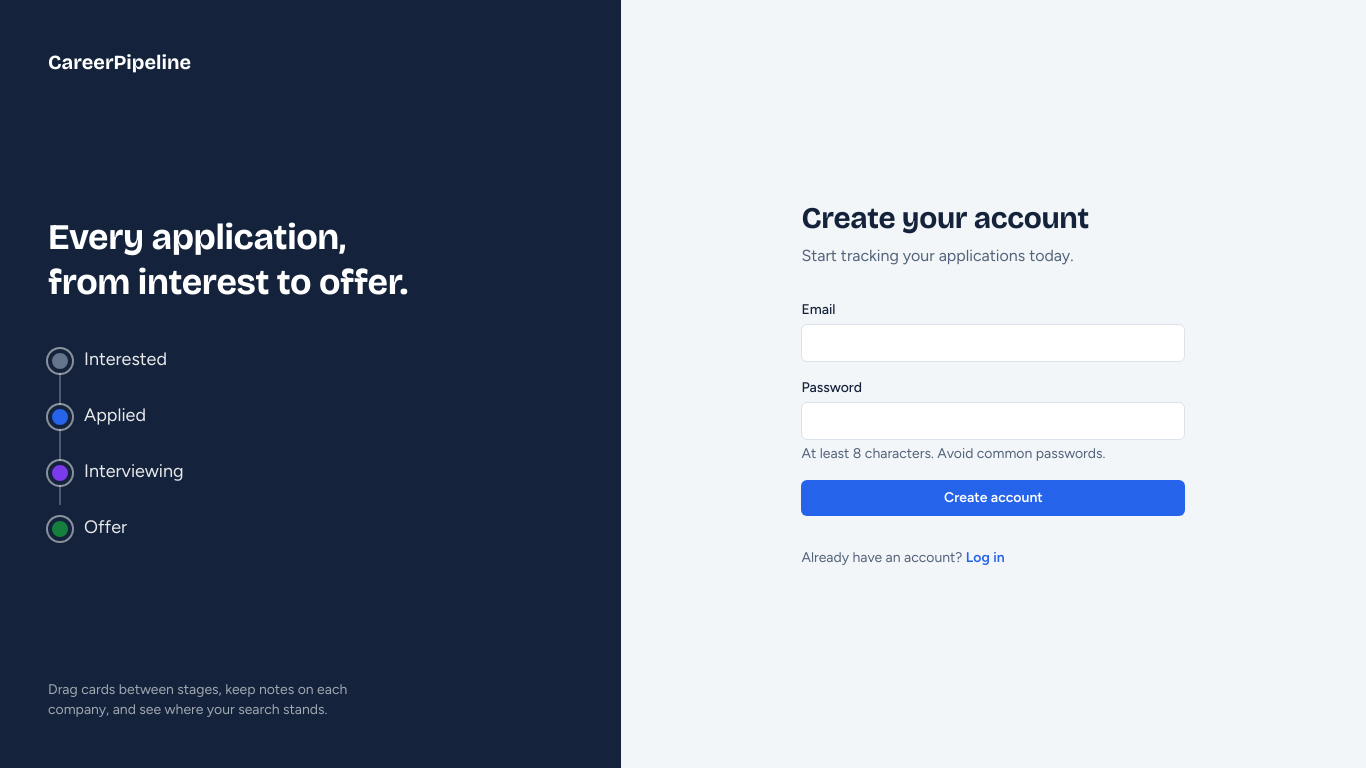
Test: registration shows the password rules returned by the API
This screenshot has width=1366, height=768.
In the field labelled "Email": (993, 343) [801,324,1185,362], type "new@b.test"
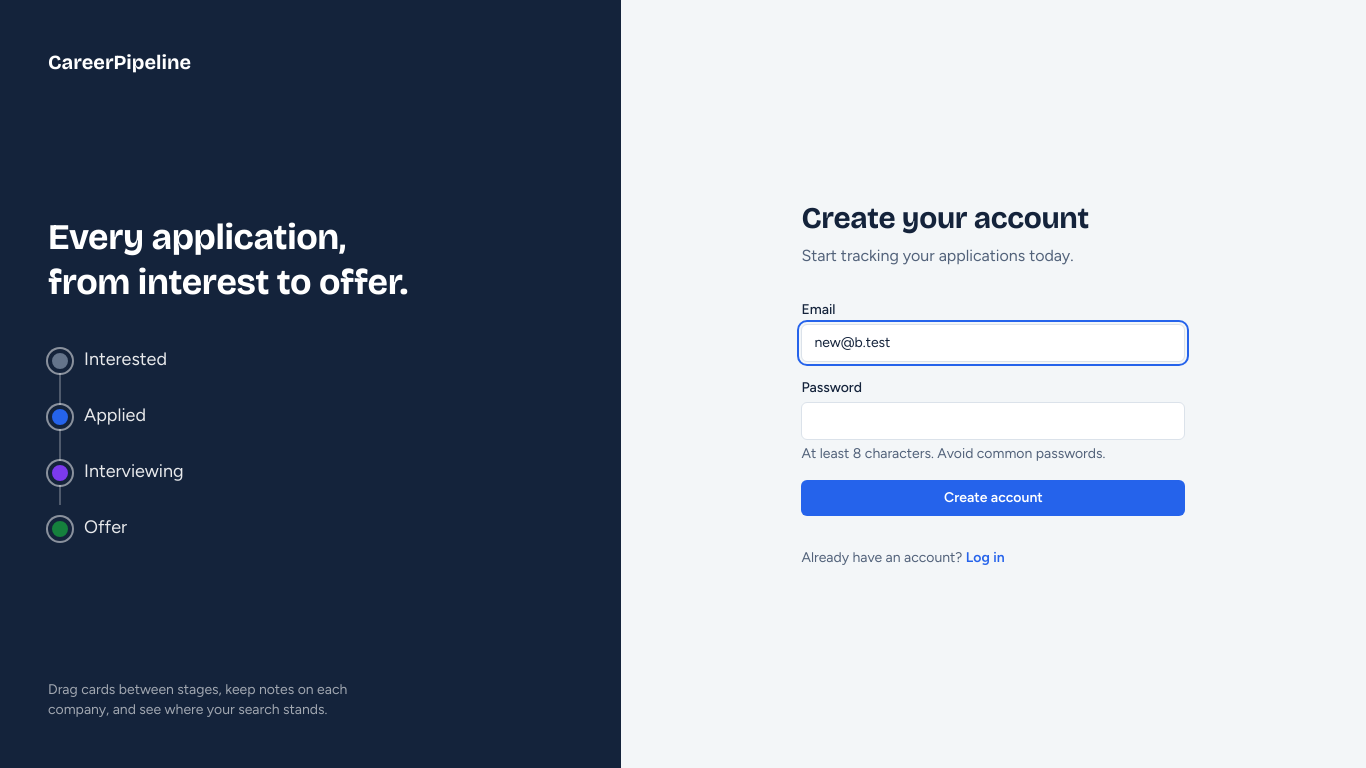
In the password field labelled "Password": (993, 421) [801,402,1185,440], type "short"
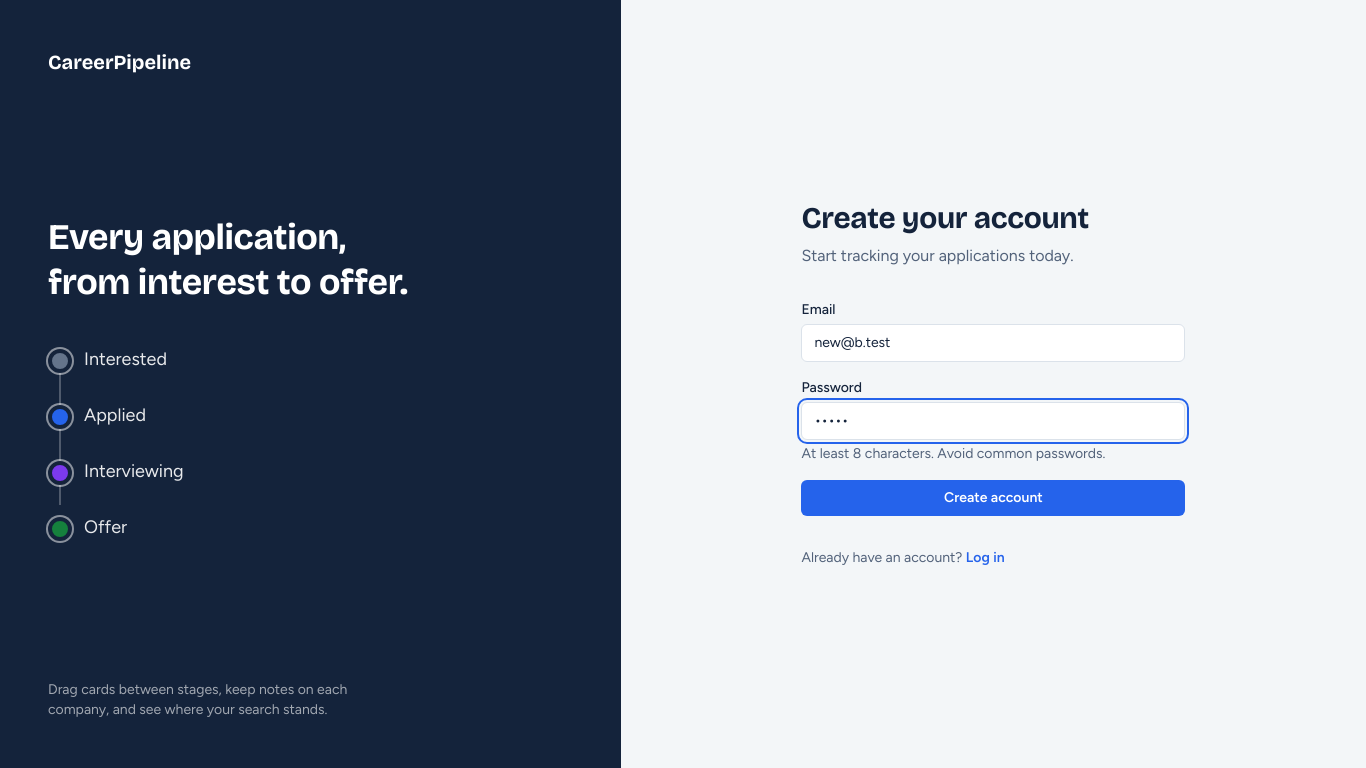
Click the button "Create account": click(993, 498) [801,480,1185,516]
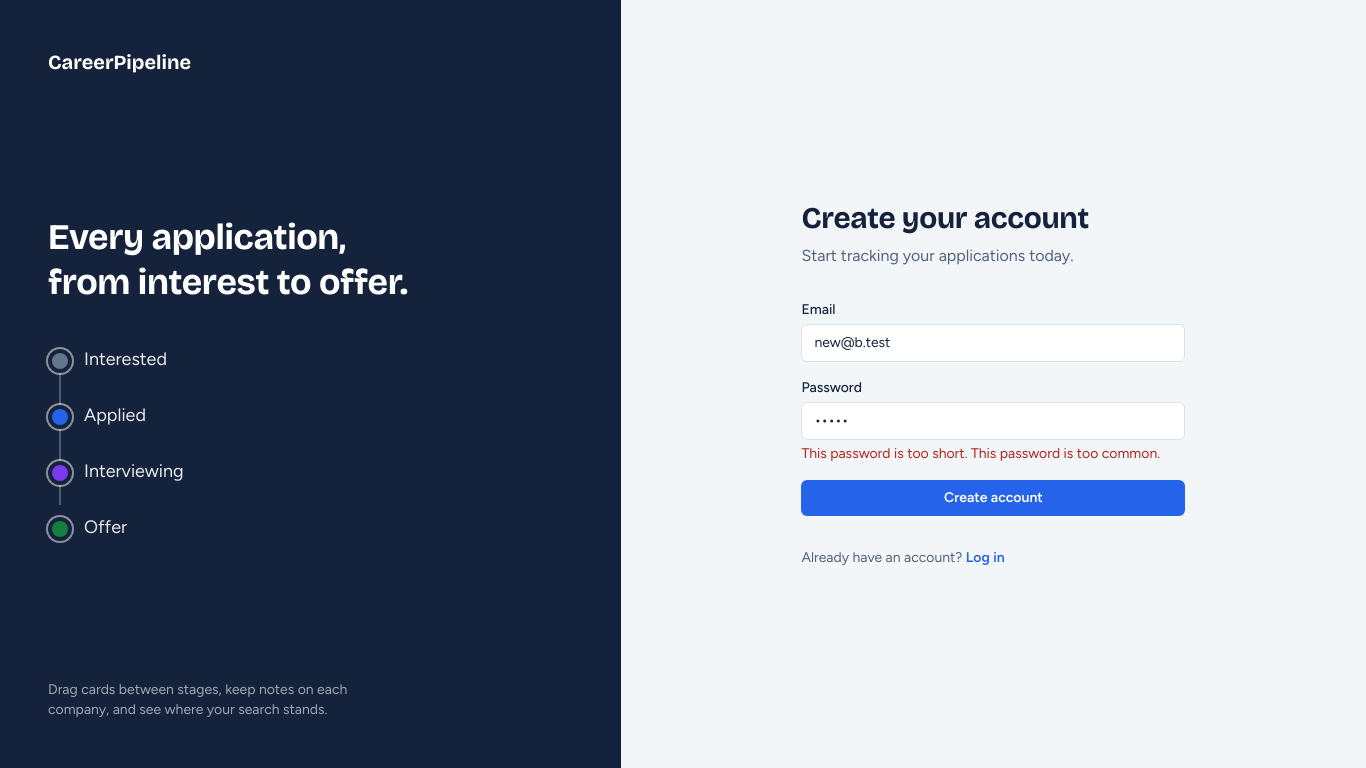
expect the text "This password is too short. This password is too common." is shown: met, box [801,444,1185,464]
